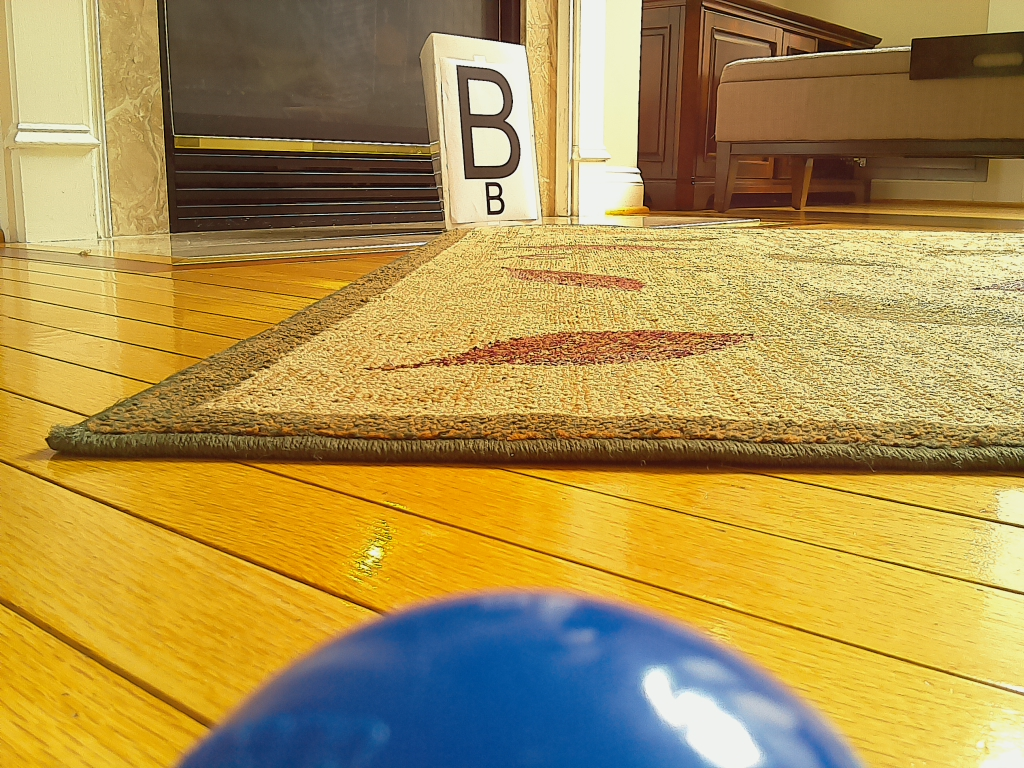letter: (457, 66, 522, 179)
